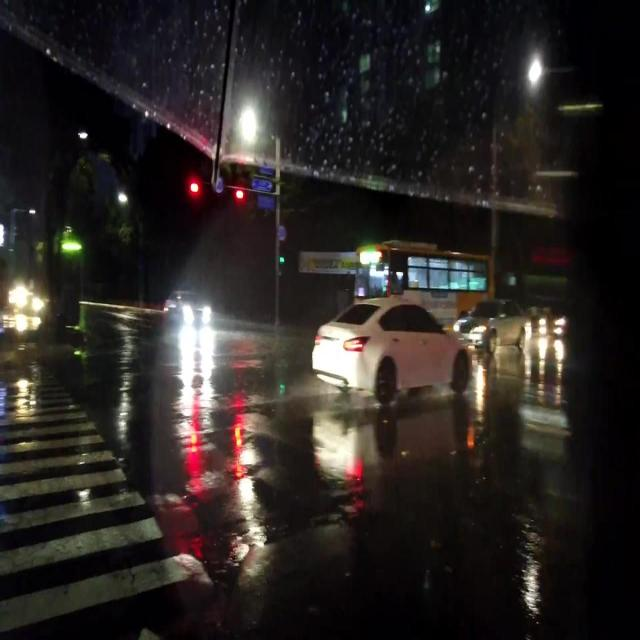Car: (310, 296, 471, 399), (161, 282, 210, 329)
